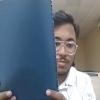notebook: (0, 0, 58, 99)
